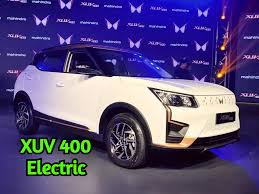XUV 400: (12, 42, 244, 171)
